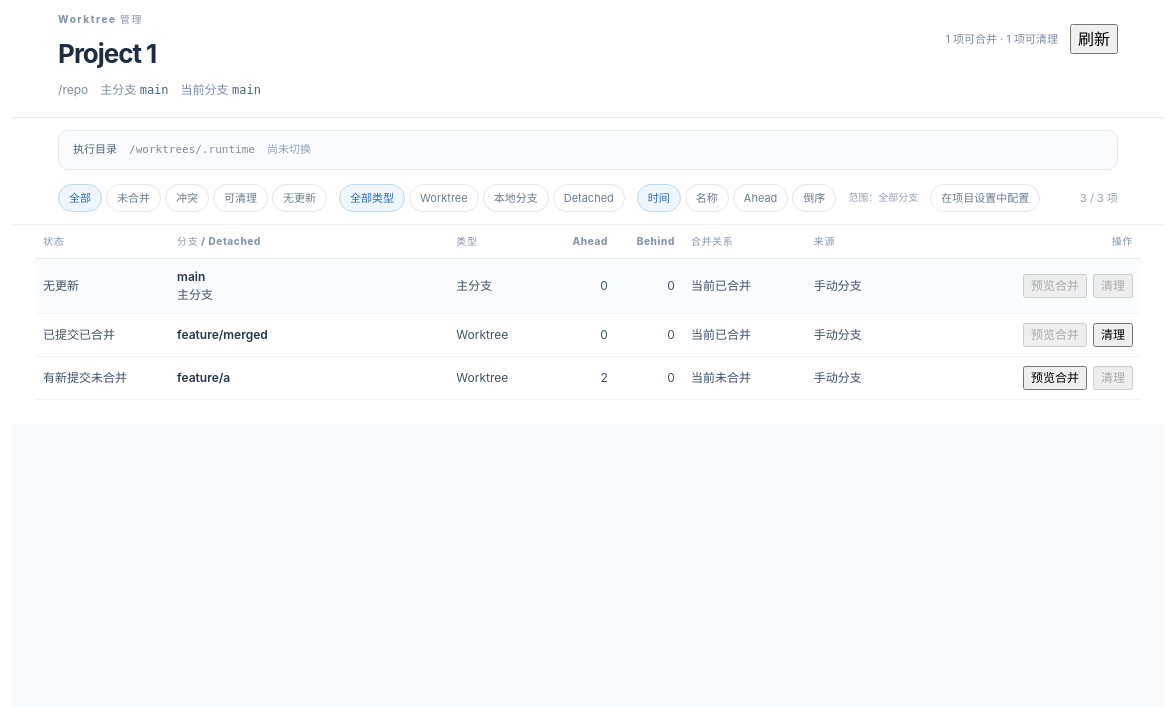
Test case: Worktree 面板 › 确认合并把预览给出的两个 SHA 原样带回
The image size is (1176, 707).
Click the 3rd button "预览合并".
click(1055, 378)  # box x1=1023 y1=366 x2=1087 y2=390
(page scrolled)
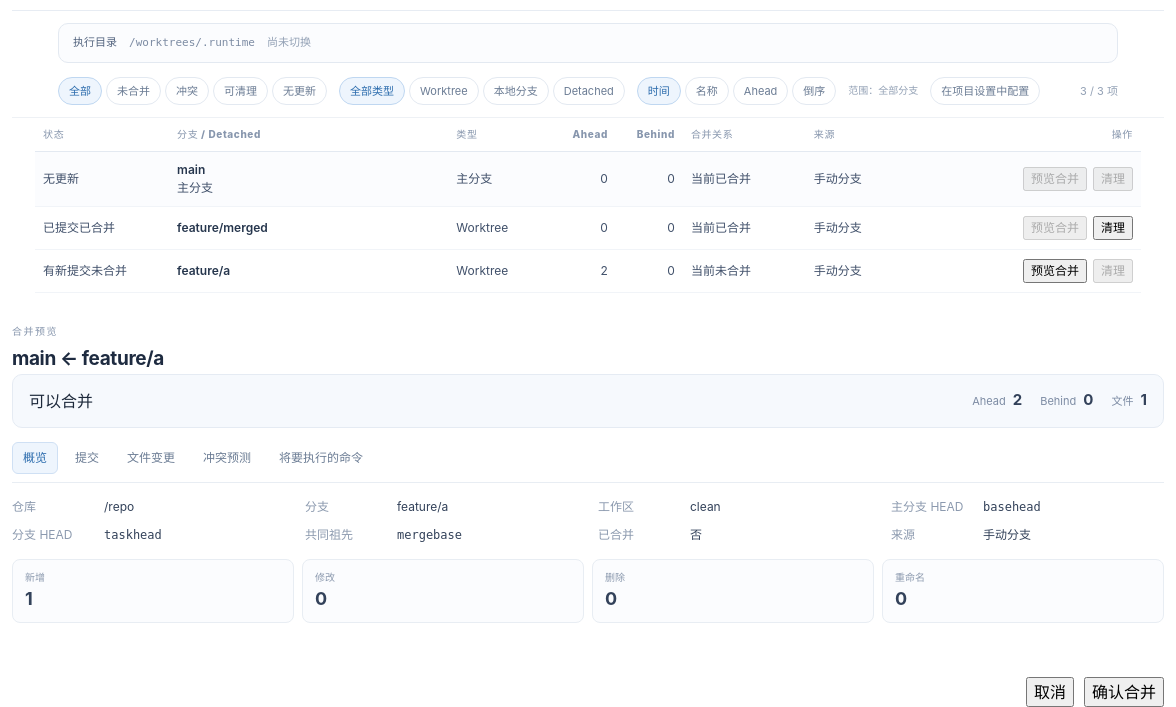
Click the button "确认合并".
click(1124, 692)  # box x1=1084 y1=676 x2=1164 y2=706
(page scrolled)
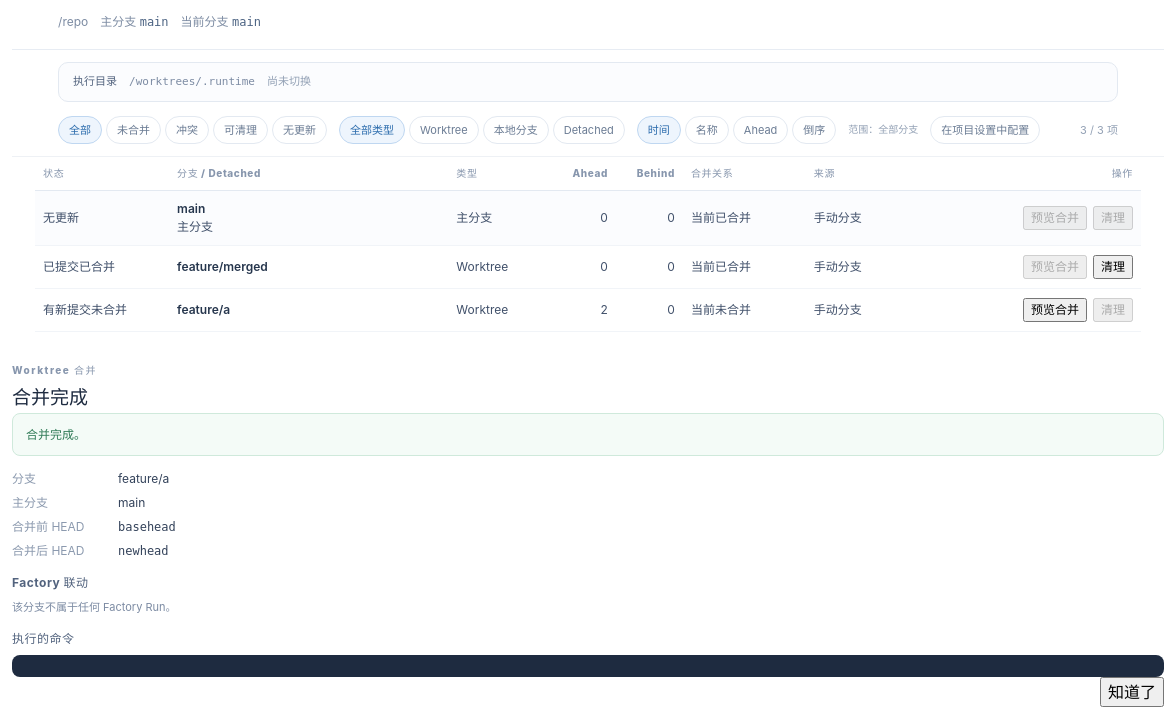
Expected: the element that starts with "合并完成。" shows "该分支不属于任何 Factory Run", x1=12 y1=600 x2=176 y2=614
